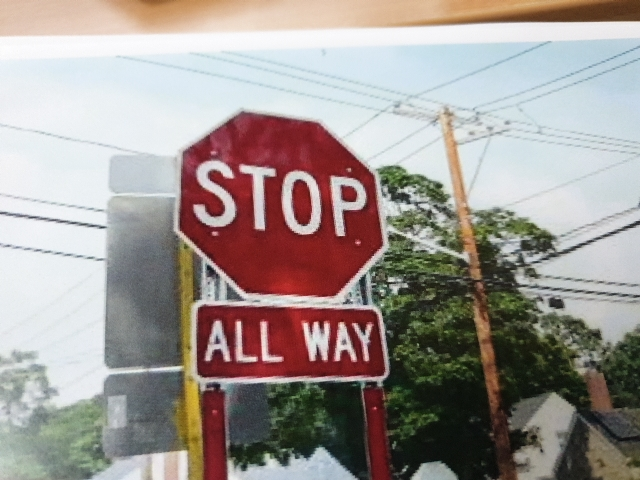stop: (163, 102, 389, 305)
